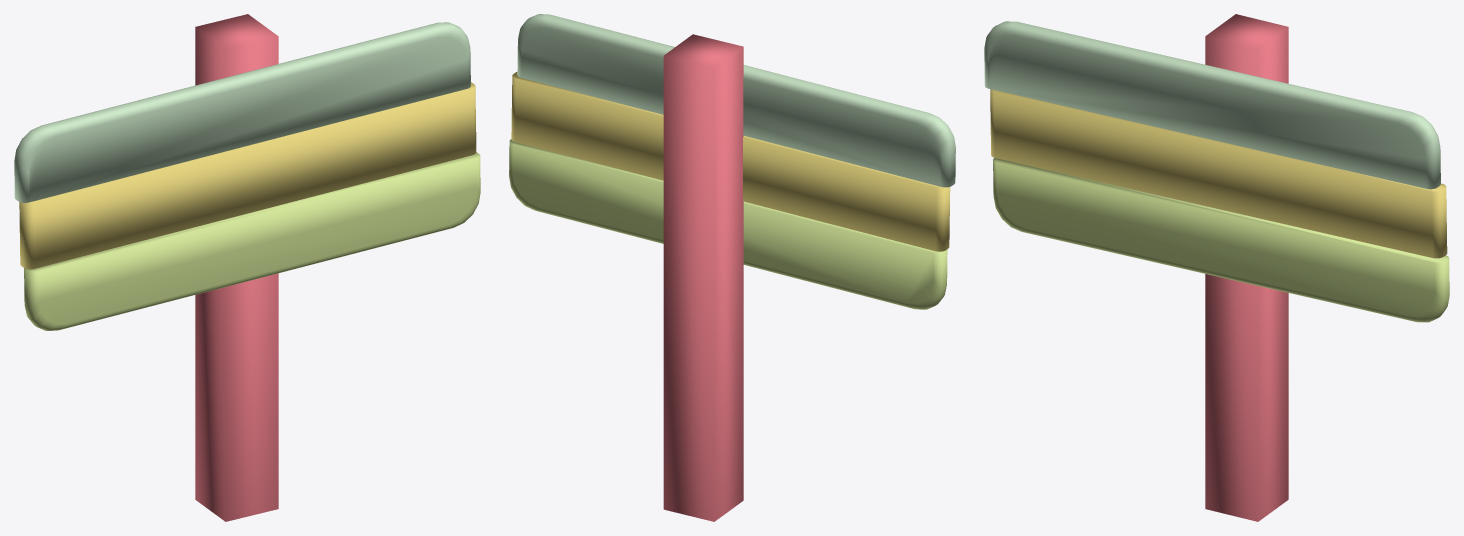
Rendered from Schild1.fbx.
The picture shows the model from 3 angles, left to right: view 1: azimuth 30°, elevation 25°; view 2: azimuth 150°, elevation 25°; view 3: azimuth 330°, elevation 25°; orthographic projection. The views are drawn at different scales.
Visible parts, largest first — view 1: SM_Schild_002; view 2: SM_Schild_002; view 3: SM_Schild_002.
Part boxes in pixels (bbox=[...]): SM_Schild_002: bbox=[14, 14, 480, 521]; SM_Schild_002: bbox=[509, 14, 955, 521]; SM_Schild_002: bbox=[984, 14, 1449, 521].
Size of the model in its own units: 204 by 200 by 31.48.
